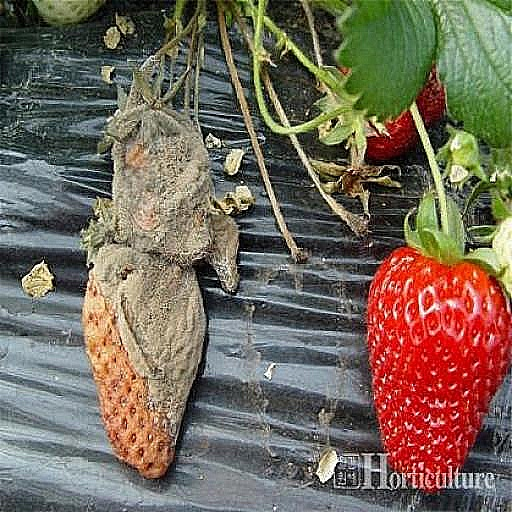Gray Mold: (79, 199, 206, 480), (105, 99, 220, 270), (201, 205, 245, 296)
